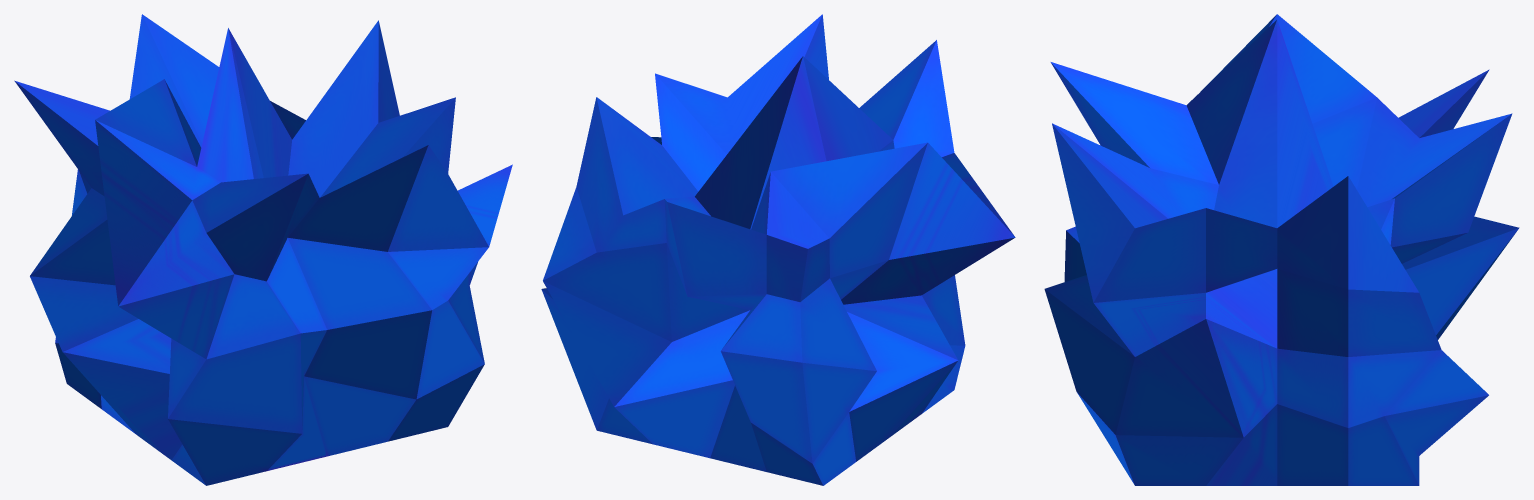
File: blueMine.fbx
3 renders of one model, left to right at view 1: azimuth 30°, elevation 25°; view 2: azimuth 150°, elevation 25°; view 3: azimuth 270°, elevation 25°, orthographic. The views are drawn at different scales.
Visible parts, largest first — view 1: Cube; view 2: Cube; view 3: Cube.
Part boxes in pixels (x1,y1,x2,y2): Cube: [14, 14, 512, 485]; Cube: [541, 14, 1015, 485]; Cube: [1044, 14, 1519, 485].
Size of the model in its own units: 3.46 by 3.04 by 3.34.
Materials: 1 (1 with a texture image).
